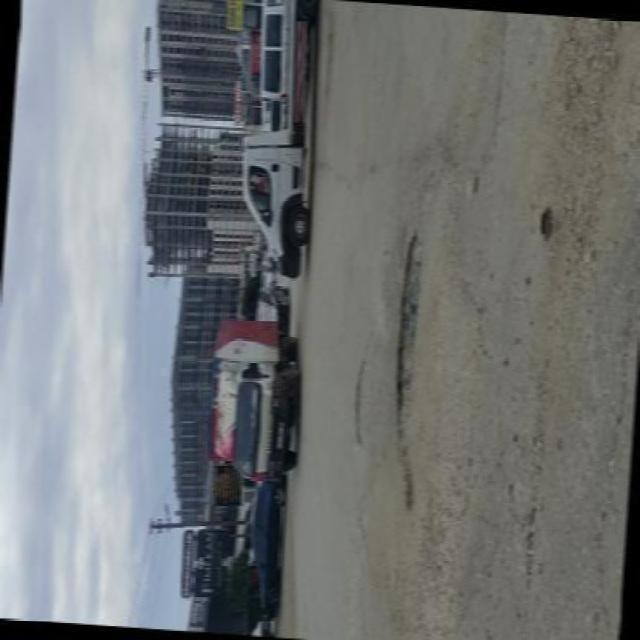Pothole: (392, 220, 434, 520), (348, 353, 375, 448), (534, 203, 562, 244)
